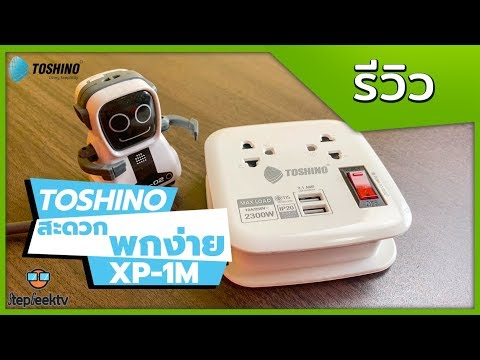Three_eye_plug: (191, 109, 416, 293)
